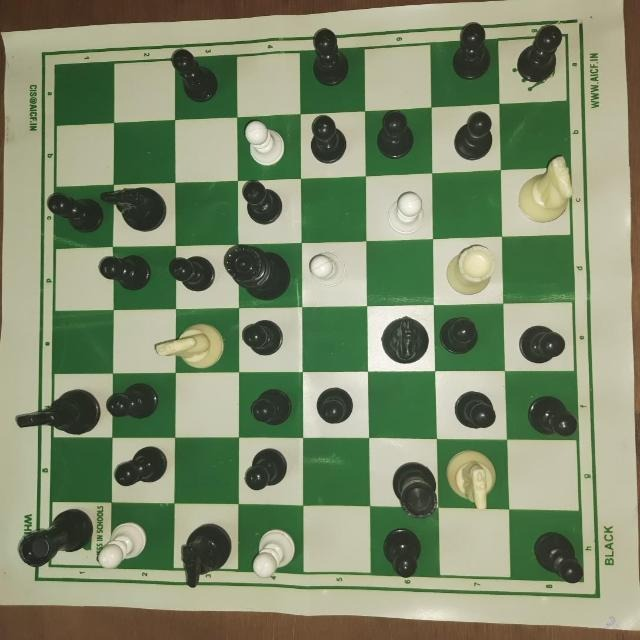black-knight: (15, 377, 96, 451), (165, 517, 234, 583), (376, 311, 430, 371), (107, 185, 171, 233)
black-pawn: (377, 519, 435, 593), (524, 527, 588, 588), (508, 18, 563, 88), (163, 51, 225, 106), (447, 22, 497, 86), (527, 391, 585, 443), (47, 188, 105, 238), (108, 380, 158, 438), (307, 27, 351, 91), (239, 448, 293, 500), (117, 441, 169, 493), (93, 249, 146, 299), (447, 110, 497, 158), (452, 386, 506, 430), (379, 112, 423, 164), (306, 115, 350, 166), (244, 183, 286, 233), (239, 319, 286, 363), (250, 383, 294, 429), (319, 380, 359, 428), (515, 326, 569, 361), (172, 250, 207, 300), (448, 318, 488, 353)
black-queen: (224, 247, 292, 302)
black-rook: (16, 504, 96, 581), (391, 460, 442, 521)
white-knight: (155, 317, 223, 387), (519, 155, 574, 226), (447, 451, 491, 511)
white-rook: (95, 519, 150, 583), (247, 523, 299, 579), (448, 240, 492, 295), (385, 190, 435, 236), (243, 121, 285, 169), (308, 247, 342, 288)
